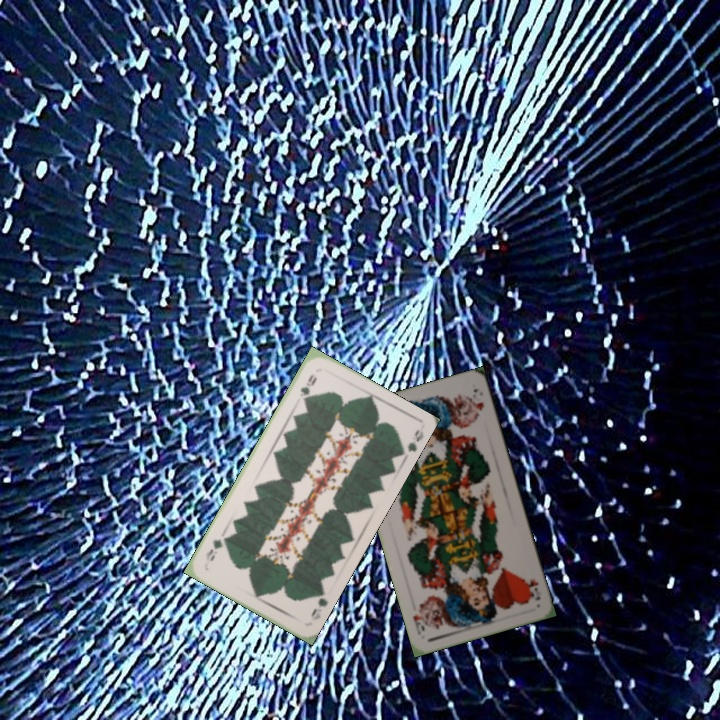G9: (306, 586, 331, 623), (296, 370, 320, 405)
HO: (520, 574, 544, 603)
